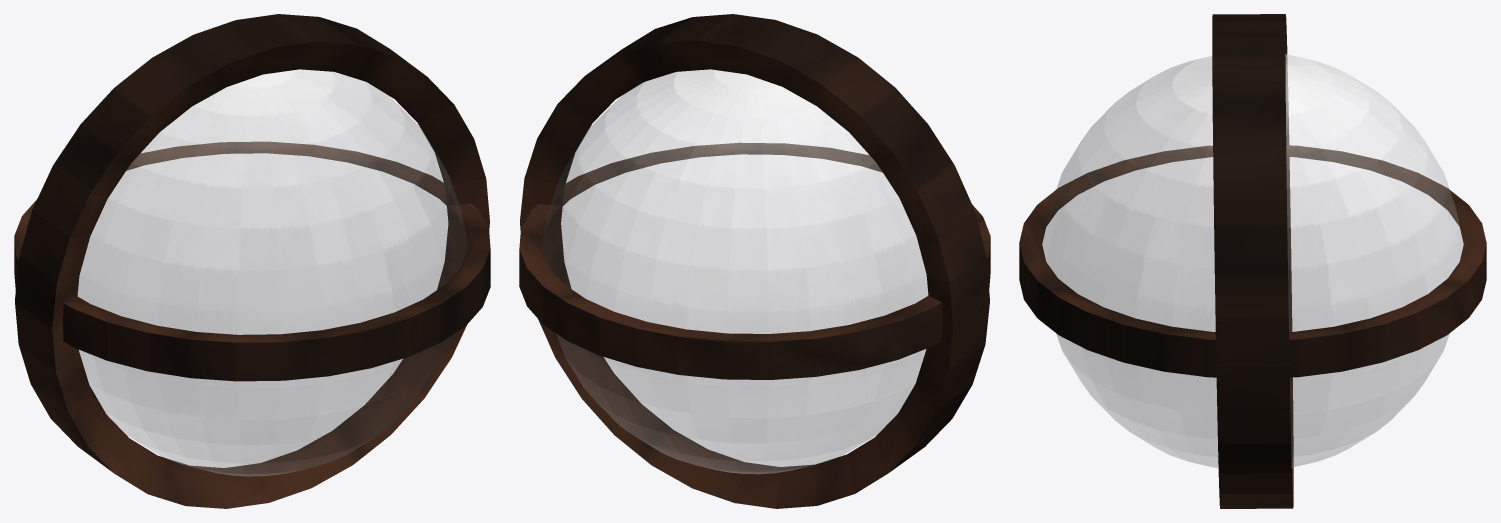
3 renders of one model, left to right at view 1: azimuth 30°, elevation 25°; view 2: azimuth 150°, elevation 25°; view 3: azimuth 270°, elevation 25°, orthographic. The views are drawn at different scales.
Parts seen in each view (by area): view 1: Sphere; view 2: Sphere; view 3: Sphere.
Boxes of the visible parts, box(x1,y1,x2,y2) form: Sphere: box(14, 14, 490, 508); Sphere: box(519, 14, 990, 508); Sphere: box(1019, 14, 1486, 508).
Bounding box in the file's own units: 1.84 × 1.84 × 1.73.
1 material, 1 textured.
